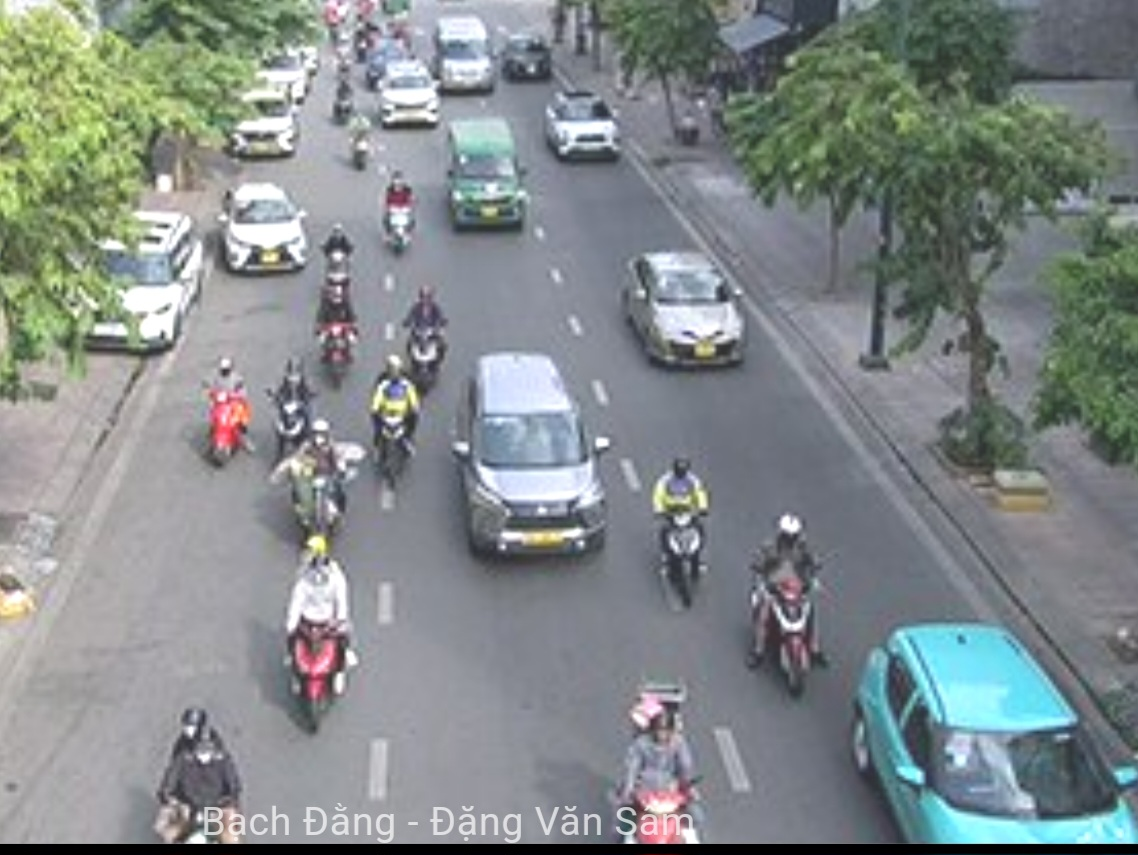car: (854, 626, 1131, 855), (456, 353, 612, 560), (88, 215, 208, 357), (615, 250, 748, 374), (444, 121, 523, 227), (224, 186, 307, 274), (544, 91, 623, 159), (232, 87, 300, 159), (375, 59, 442, 128), (436, 17, 493, 90), (501, 34, 552, 83)
